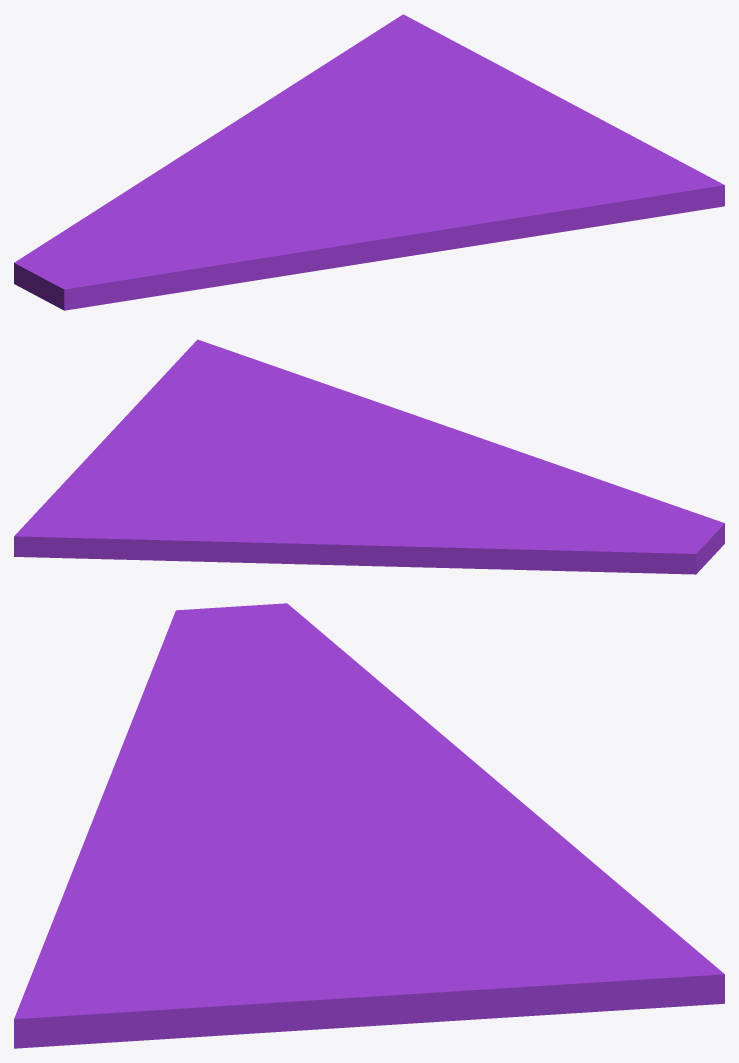
Rendered from StairsStep_5_chunks.fbx.
3 renders of one model, top to bottom at view 1: azimuth 30°, elevation 25°; view 2: azimuth 150°, elevation 25°; view 3: azimuth 270°, elevation 25°, orthographic. The views are drawn at different scales.
Parts seen in each view (by area): view 1: StairsStep_5_3, StairsStep_5_0, StairsStep_5_1, StairsStep_5_2; view 2: StairsStep_5_3, StairsStep_5_1, StairsStep_5_0, StairsStep_5_2; view 3: StairsStep_5_3, StairsStep_5_0, StairsStep_5_1, StairsStep_5_2.
Part boxes in pixels (x1,y1,x2,y2): StairsStep_5_3: [302, 28, 724, 255]; StairsStep_5_0: [14, 184, 344, 310]; StairsStep_5_1: [114, 14, 429, 198]; StairsStep_5_2: [153, 214, 409, 296]; StairsStep_5_3: [29, 339, 461, 519]; StairsStep_5_1: [14, 489, 543, 570]; StairsStep_5_0: [401, 454, 724, 574]; StairsStep_5_2: [439, 431, 527, 460]; StairsStep_5_3: [14, 804, 665, 1048]; StairsStep_5_0: [115, 603, 399, 805]; StairsStep_5_1: [310, 698, 724, 1007]; StairsStep_5_2: [95, 763, 195, 814].
Bounding box in the file's own units: 543 × 17.94 × 392.
